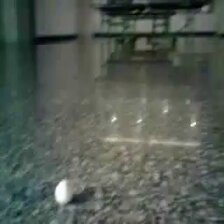w: (54, 179, 74, 203)
